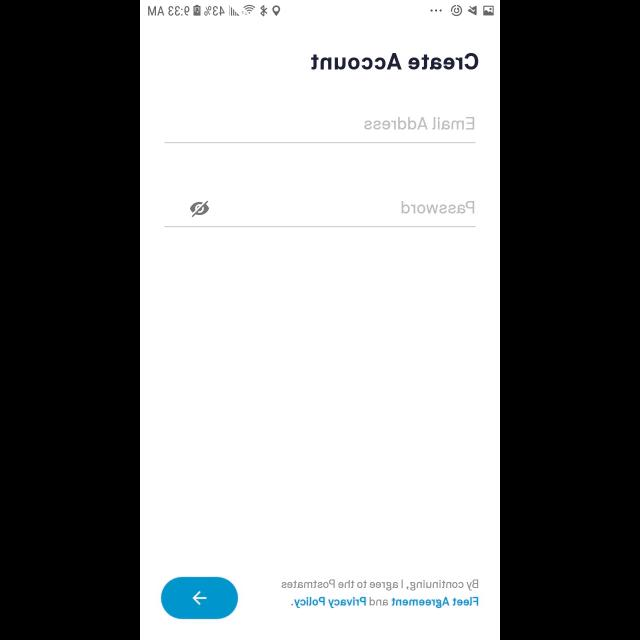icon: (160, 577, 238, 619), (190, 202, 210, 218)
input: (164, 116, 476, 144), (164, 200, 476, 228)
text: (282, 580, 478, 608), (310, 54, 478, 70), (364, 116, 474, 130), (402, 202, 474, 214)
uppertaskbar: (140, 1, 500, 18)
